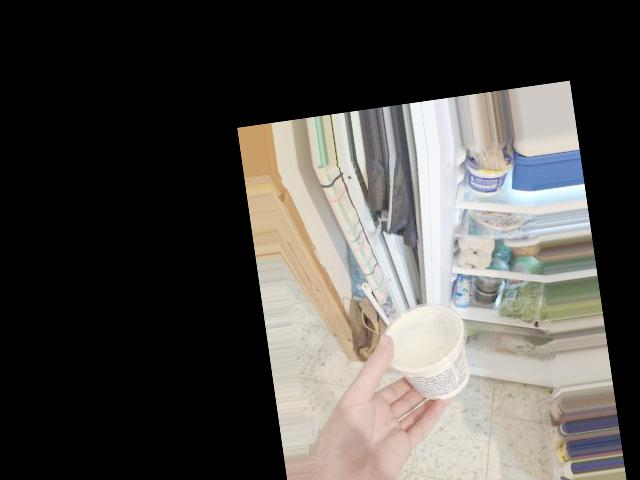cotage: (379, 312, 468, 402)
